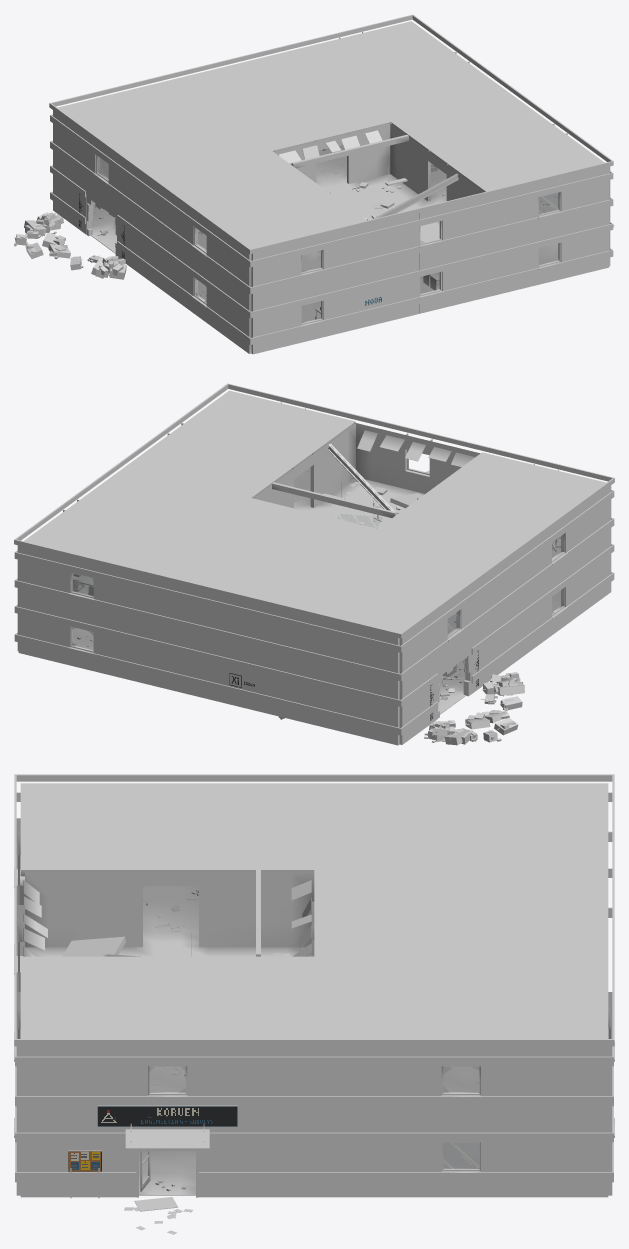
File: offices.glb
3 renders of one model, top to bottom at view 1: azimuth 30°, elevation 25°; view 2: azimuth 150°, elevation 25°; view 3: azimuth 270°, elevation 25°, orthographic. The views are drawn at different scales.
Visible parts, largest first — view 1: offices; view 2: offices; view 3: offices.
Boxes of the visible parts, box(x1,y1,x2,y2) form: offices: box(14, 14, 614, 354); offices: box(14, 383, 614, 745); offices: box(14, 774, 614, 1234).
Size of the model in its own units: 29.54 by 6.54 by 21.48.
4 materials, 3 textured.
